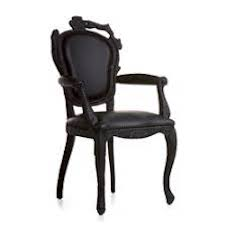chair: (34, 10, 202, 226)
